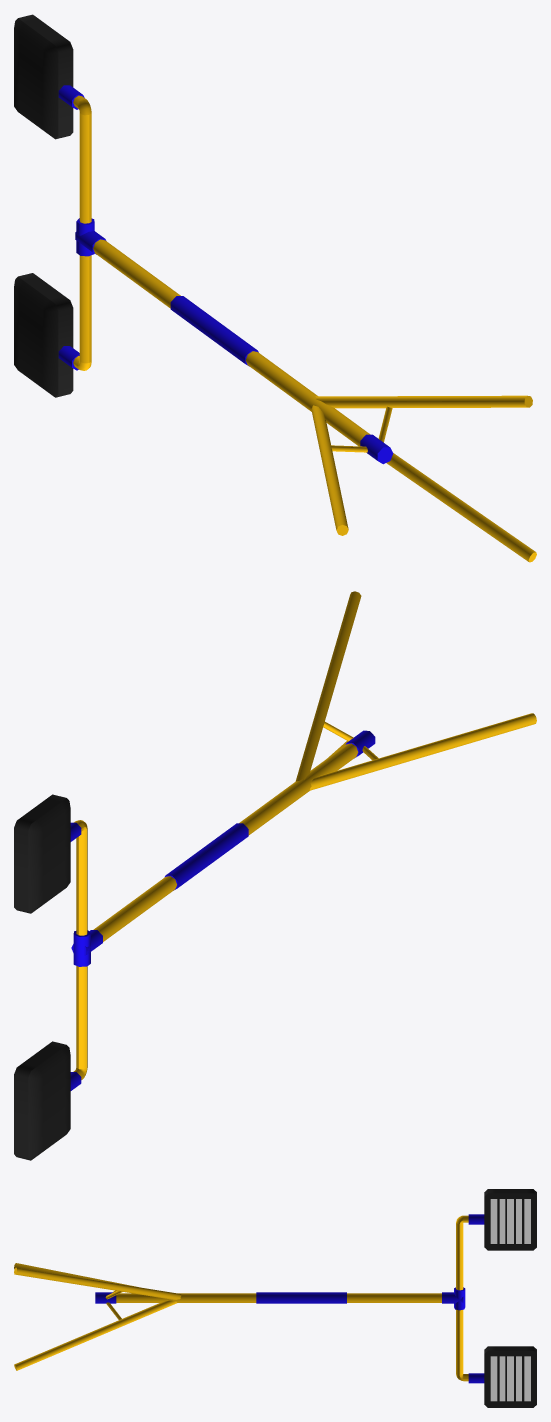
The model's file is P_Projo.fbx.
3 views of the same model, one above another, from view 1: azimuth 30°, elevation 25°; view 2: azimuth 150°, elevation 25°; view 3: azimuth 270°, elevation 25° (orthographic). The views are drawn at different scales.
Visible parts, largest first — view 1: P_Projo; view 2: P_Projo; view 3: P_Projo.
Boxes of the visible parts, box(x1,y1,x2,y2) form: P_Projo: box(14, 14, 536, 562); P_Projo: box(14, 591, 536, 1160); P_Projo: box(14, 1189, 536, 1407).
Size of the model in its own units: 40.17 by 67.54 by 149.
